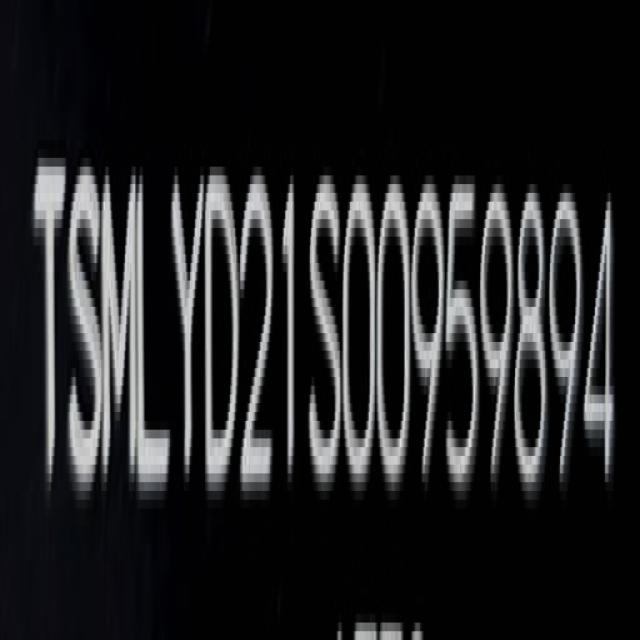0: (378, 173, 414, 497), (346, 176, 378, 497)
1: (280, 168, 302, 507)
2: (240, 170, 278, 512)
4: (585, 199, 619, 496)
5: (445, 179, 480, 503), (448, 174, 480, 500)
9: (413, 177, 447, 502), (548, 189, 583, 496), (481, 181, 514, 502)
D: (205, 165, 240, 511)
L: (136, 158, 170, 512)
M: (102, 160, 142, 513)
S: (307, 171, 343, 499), (68, 166, 102, 513)
T: (32, 145, 66, 513)
Y: (170, 161, 202, 510)
